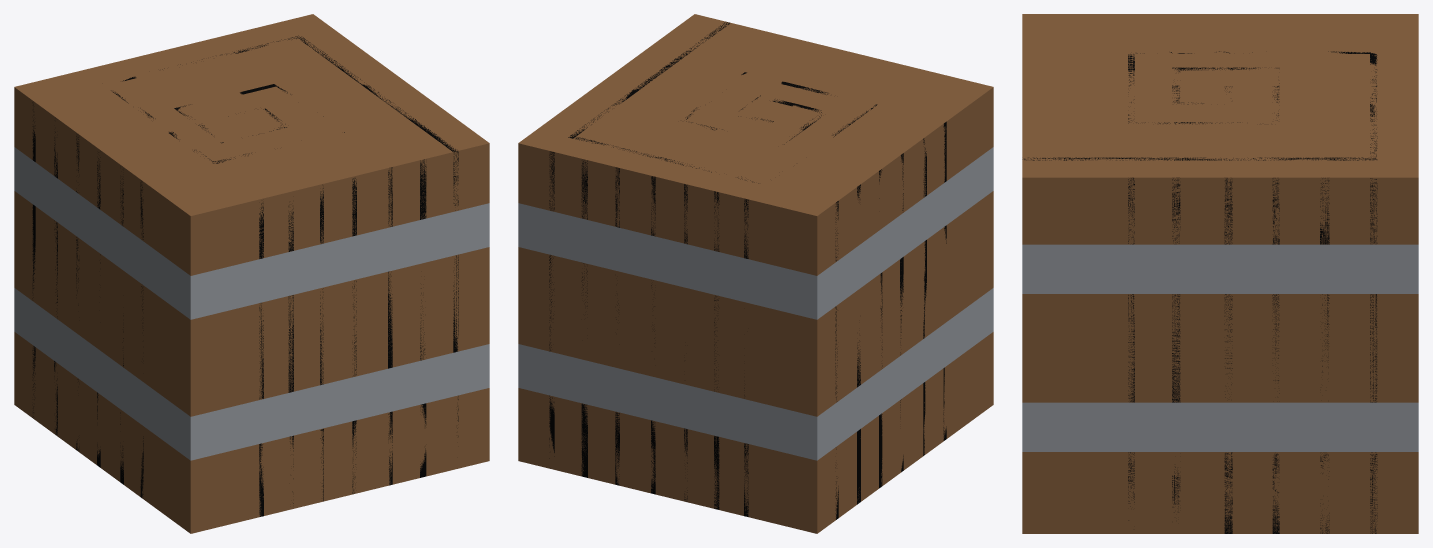
File: Obstaculo.fbx
3 renders of one model, left to right at view 1: azimuth 30°, elevation 25°; view 2: azimuth 150°, elevation 25°; view 3: azimuth 270°, elevation 25°, orthographic. The views are drawn at different scales.
Parts seen in each view (by area): view 1: Cubo; view 2: Cubo; view 3: Cubo.
Boxes of the visible parts, x1=… form: Cubo: x1=14, y1=14, x2=489, y2=533; Cubo: x1=518, y1=14, x2=993, y2=533; Cubo: x1=1022, y1=14, x2=1418, y2=533.
Size of the model in its own units: 249 by 253 by 255.
